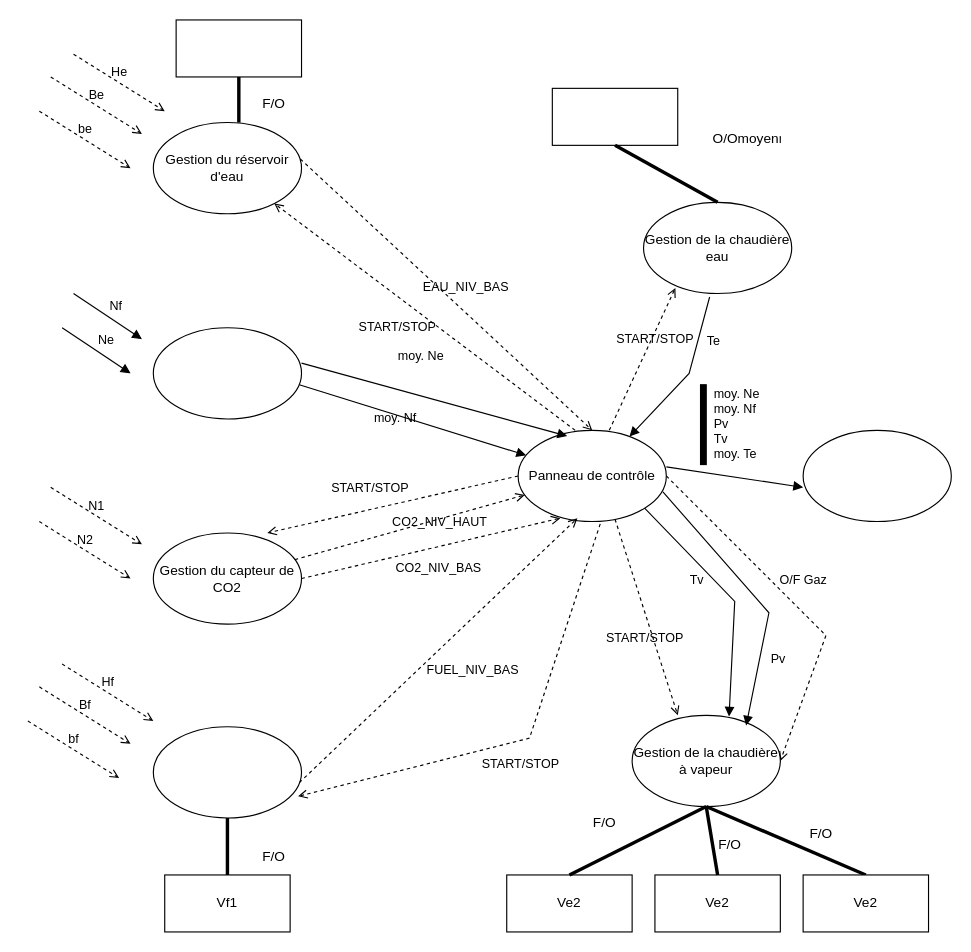
Image size: 971x952. Some labels were removed from this diagram. Here are the shapes that lost their labels. From the top down, the centre of each, then its label:
At point 238,48: "Ve1".
At point 614,116: "Vf3".
At point 227,373: "Gestion de moyenne".
At point 876,475: "IHM".
At point 227,772: "Gestion du réservoir de fuel".
